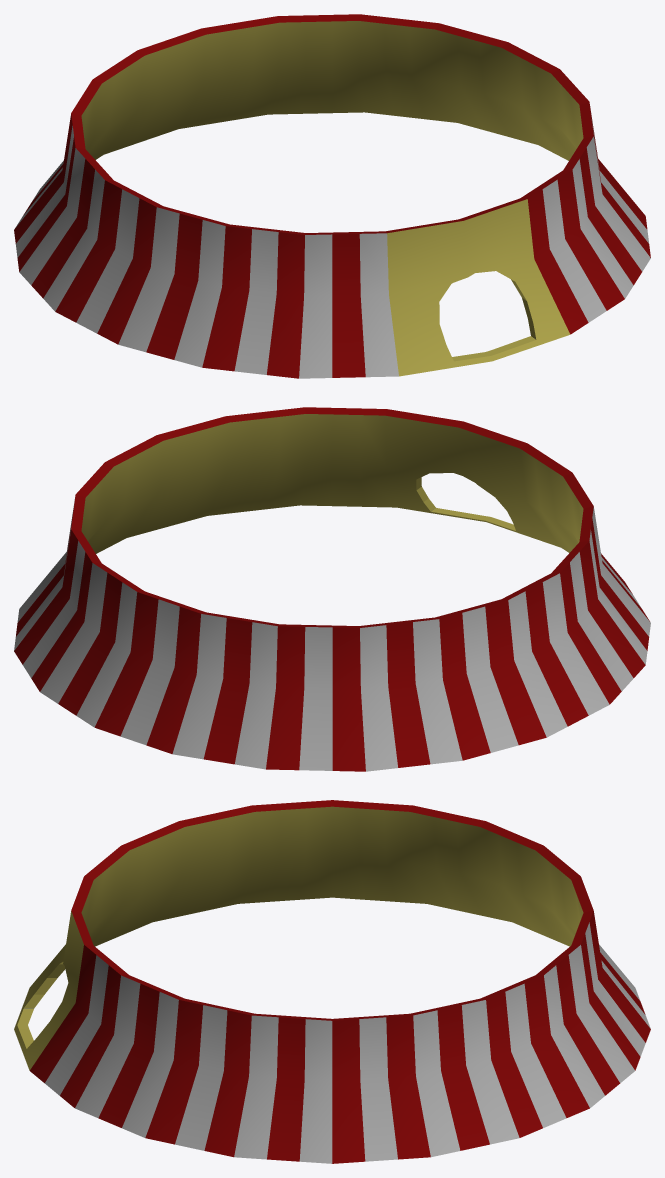
File: SEC-Tent-Bottom.fbx
3 renders of one model, top to bottom at view 1: azimuth 30°, elevation 25°; view 2: azimuth 150°, elevation 25°; view 3: azimuth 270°, elevation 25°, orthographic.
Visible parts, largest first — view 1: polySurface133; view 2: polySurface133; view 3: polySurface133.
Part boxes in pixels (x1,y1,x2,y2): polySurface133: [14, 14, 650, 378]; polySurface133: [14, 407, 650, 771]; polySurface133: [14, 800, 650, 1163].
Size of the model in its own units: 56.7 by 11.67 by 56.7.
